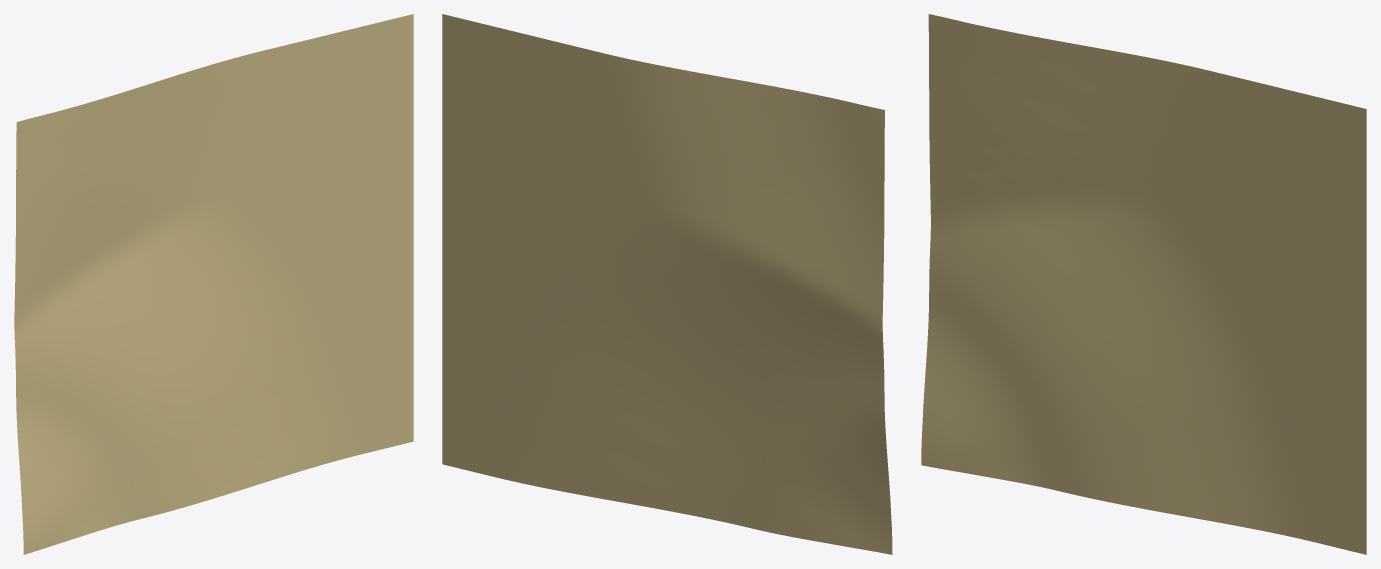
The model's file is island_terrain_12_02.obj.
3 views of the same model, side by side, from view 1: azimuth 30°, elevation 25°; view 2: azimuth 150°, elevation 25°; view 3: azimuth 330°, elevation 25° (orthographic). The views are drawn at different scales.
Visible parts, largest first — view 1: island_terrain_12_02; view 2: island_terrain_12_02; view 3: island_terrain_12_02.
Boxes of the visible parts, box(x1,y1,x2,y2) form: island_terrain_12_02: box(14, 14, 413, 554); island_terrain_12_02: box(442, 14, 892, 554); island_terrain_12_02: box(921, 14, 1366, 554).
Bounding box in the file's own units: 256 × 256 × 20.25.
